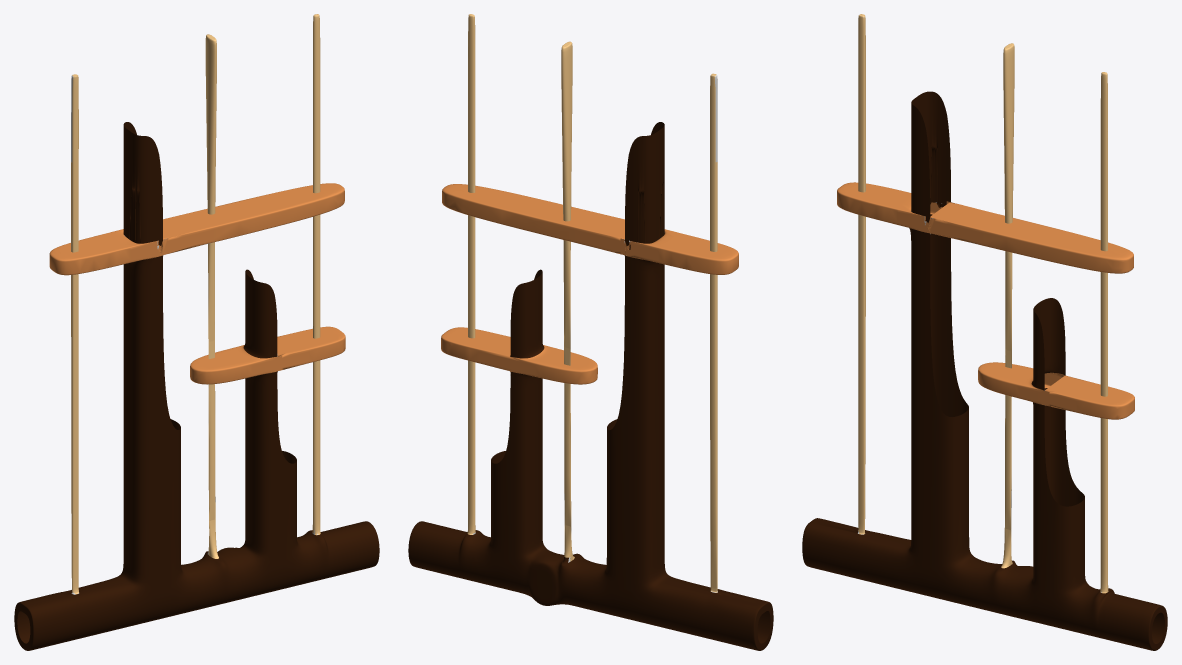
Rendered from angklung.glb.
3 views of the same model, side by side, from view 1: azimuth 30°, elevation 25°; view 2: azimuth 150°, elevation 25°; view 3: azimuth 330°, elevation 25° (orthographic).
Parts seen in each view (by area): view 1: Cube_Material.001_0, Cube_Material.004_0, Cube_Material.003_0; view 2: Cube_Material.001_0, Cube_Material.004_0, Cube_Material.003_0; view 3: Cube_Material.001_0, Cube_Material.004_0, Cube_Material.003_0.
Boxes of the visible parts, x1,y1,x2,y2 form: Cube_Material.001_0: (14,122,379,650); Cube_Material.004_0: (49,183,345,384); Cube_Material.003_0: (71,14,320,594); Cube_Material.001_0: (408,122,773,650); Cube_Material.004_0: (441,184,738,384); Cube_Material.003_0: (467,14,717,592); Cube_Material.001_0: (802,91,1167,650); Cube_Material.004_0: (837,182,1134,419); Cube_Material.003_0: (858,14,1108,593).
Bounding box in the file's own units: 1.39 × 2.17 × 0.1451.
